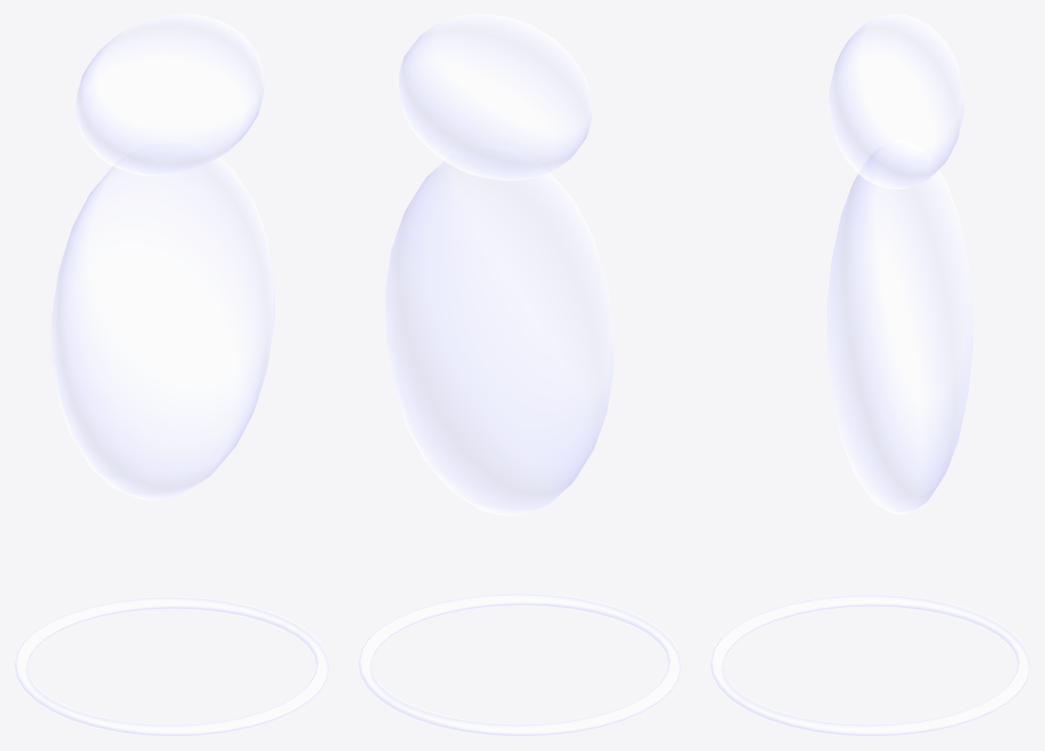
The model's file is afterimage.glb.
3 renders of one model, left to right at view 1: azimuth 30°, elevation 25°; view 2: azimuth 150°, elevation 25°; view 3: azimuth 270°, elevation 25°, orthographic. The views are drawn at different scales.
Parts seen in each view (by area): view 1: GlassBodyEcho, GlassHeadEcho, FadingFootprint; view 2: GlassBodyEcho, GlassHeadEcho, FadingFootprint; view 3: GlassBodyEcho, GlassHeadEcho, FadingFootprint.
Boxes of the visible parts, x1,y1,x2,y2 form: GlassBodyEcho: (51,139,274,500); GlassHeadEcho: (76,14,264,176); FadingFootprint: (14,596,329,736); GlassBodyEcho: (385,145,613,515); GlassHeadEcho: (399,14,591,180); FadingFootprint: (358,592,681,736); GlassBodyEcho: (827,140,972,514); GlassHeadEcho: (829,14,964,189); FadingFootprint: (710,594,1030,736).
Bounding box in the file's own units: 0.098 × 0.2196 × 0.098.
